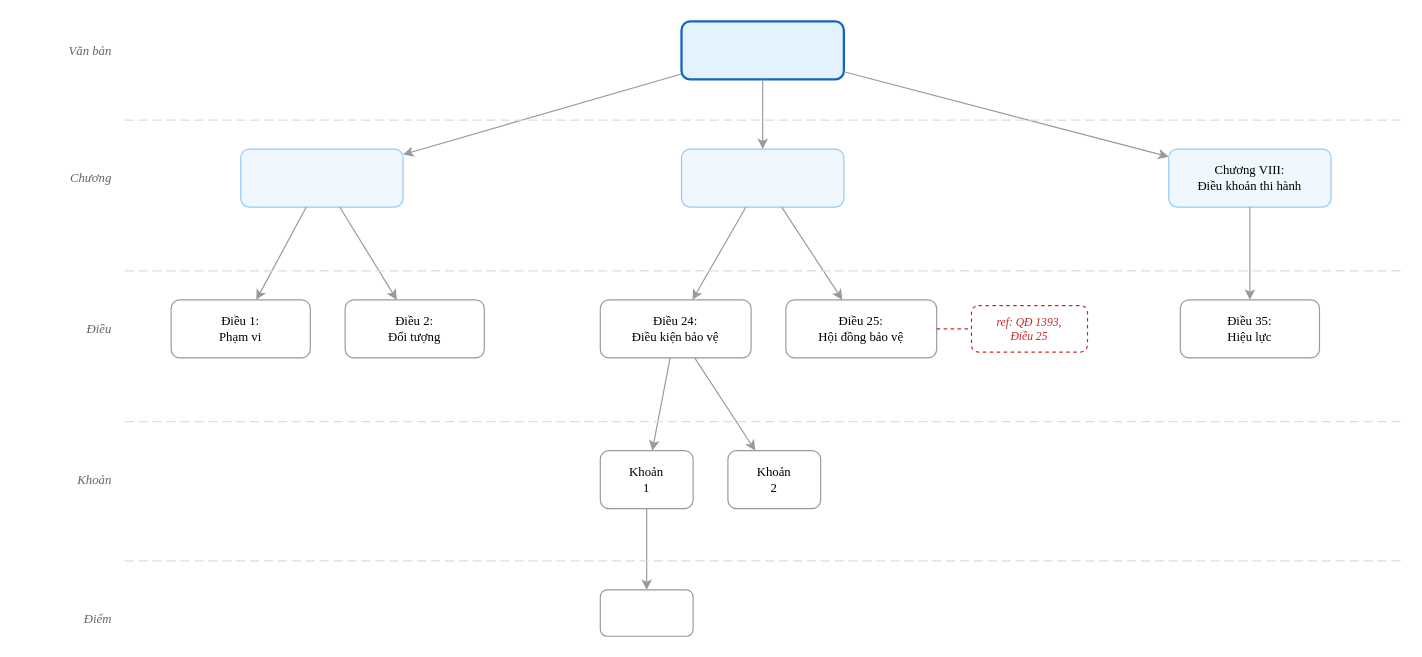
This 1422x657 diagram has some shape labels left out. The shapes that lost their labels are listed below. From the top down, each one's centre as x and y in pixels, then its label:
At point 762,50: "QĐ 270 (Văn bản)".
At point 321,177: "Chương I: Quy định chung".
At point 762,177: "Chương IV: Luận văn".
At point 646,612: "Điểm a".
